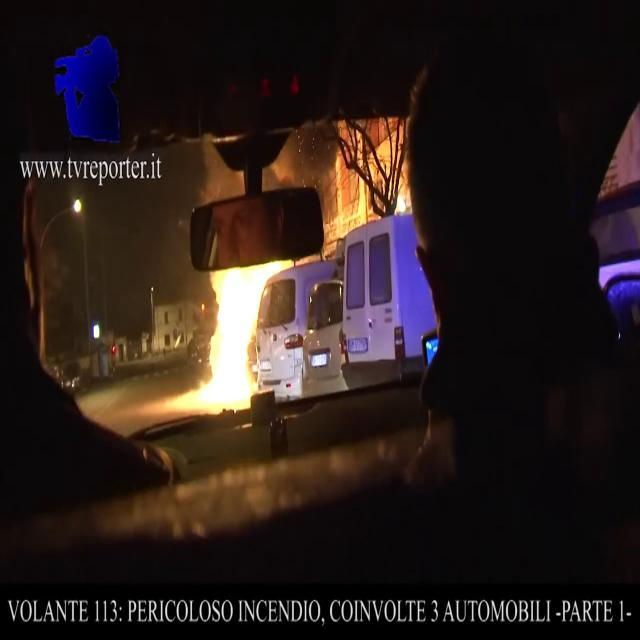Fire: (189, 252, 281, 411)
